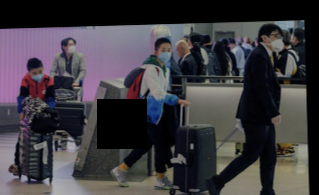with_mask: (268, 32, 285, 53), (157, 46, 173, 64), (29, 68, 44, 83), (65, 42, 77, 55)
